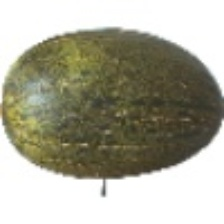honeydew: (15, 0, 194, 195)
